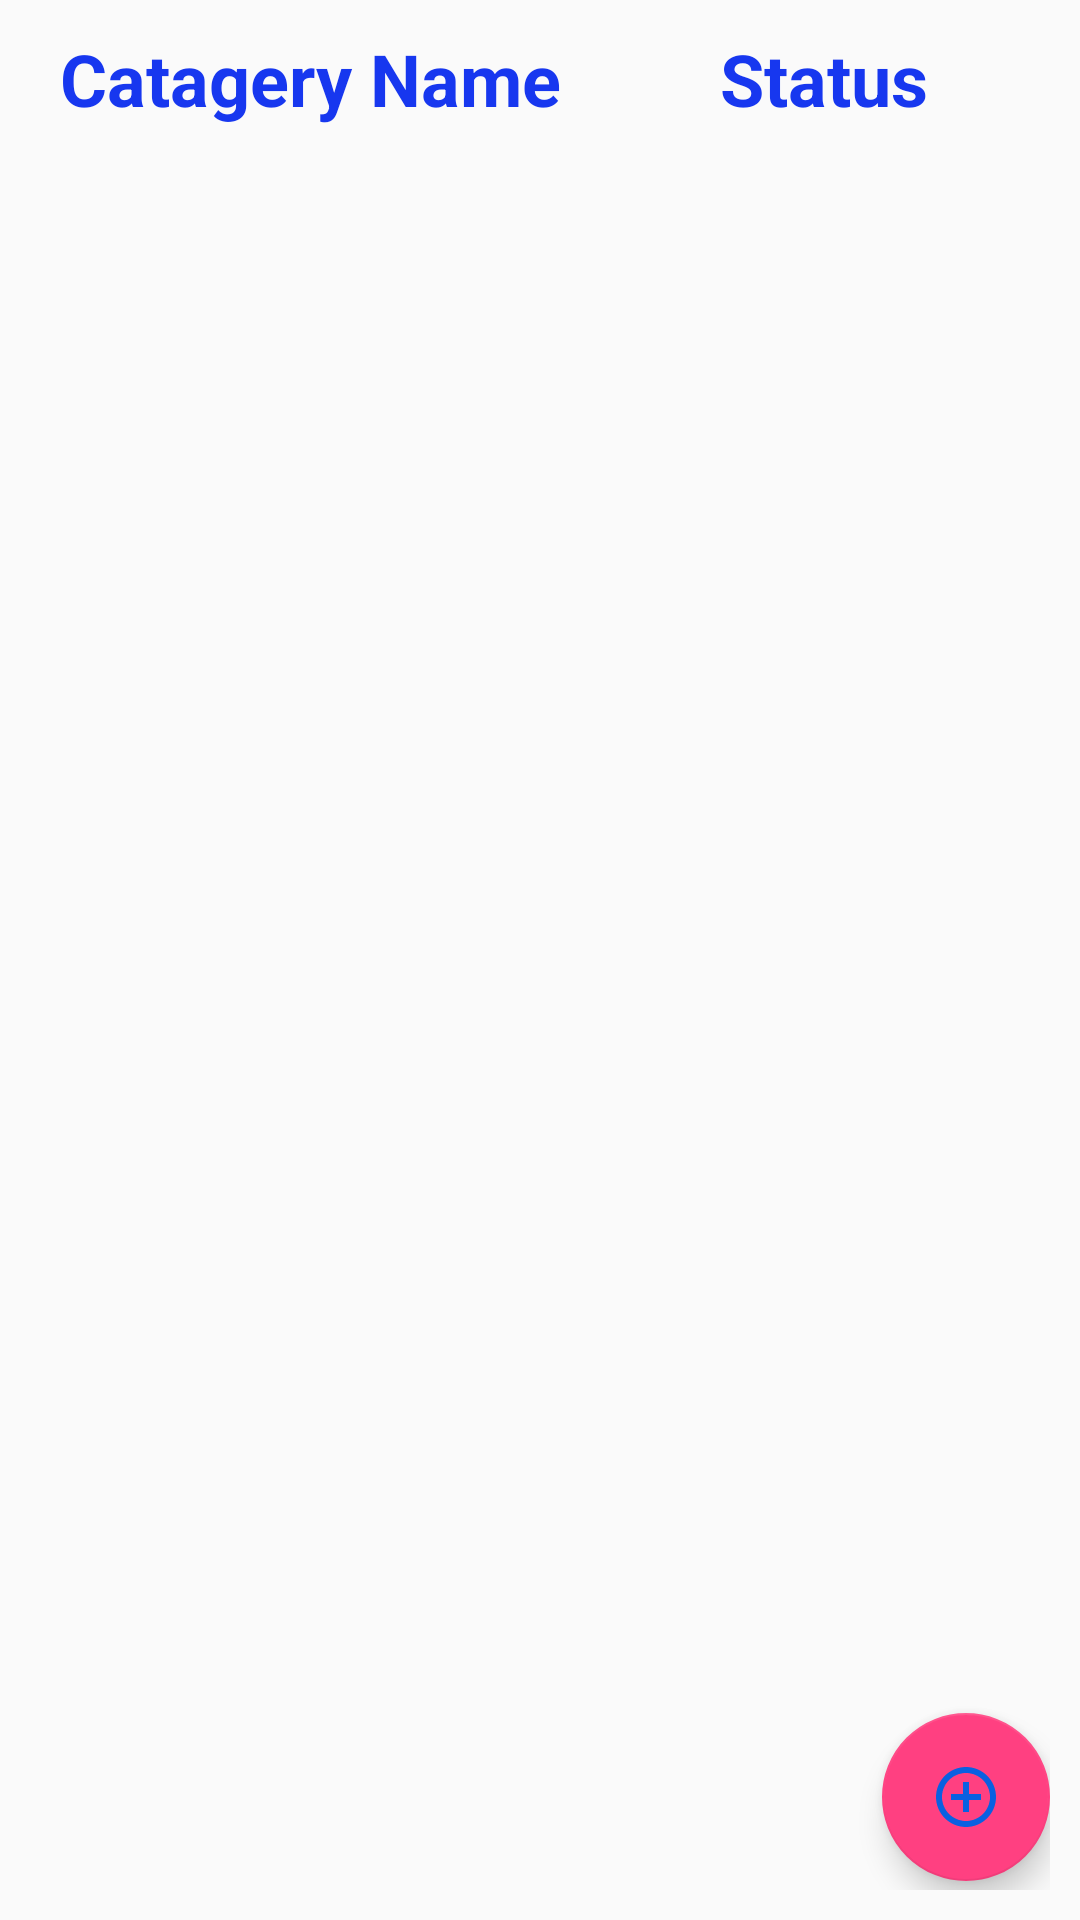

Named icons in this screenshot (1080w x 1920h) and their centers, [x,y]:
plus: [966,1797]
